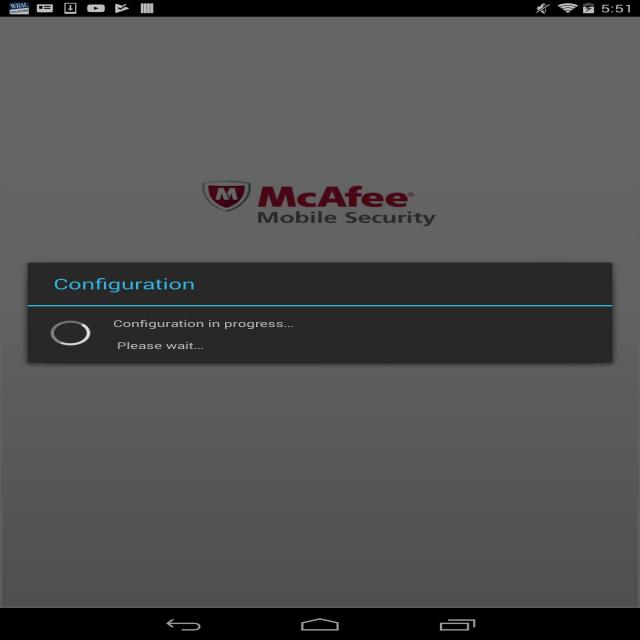heading: (47, 275, 200, 296)
image: (196, 177, 448, 235), (46, 318, 94, 348)
text: (113, 316, 302, 332), (116, 340, 212, 353)
